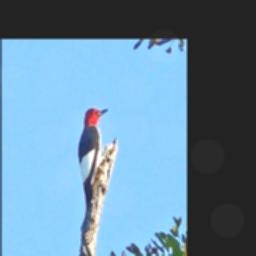Woodpecker: (70, 98, 113, 232)
